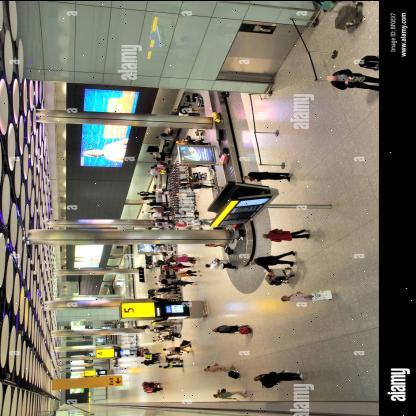airport-trolley: (319, 1, 363, 35), (261, 264, 297, 288)
